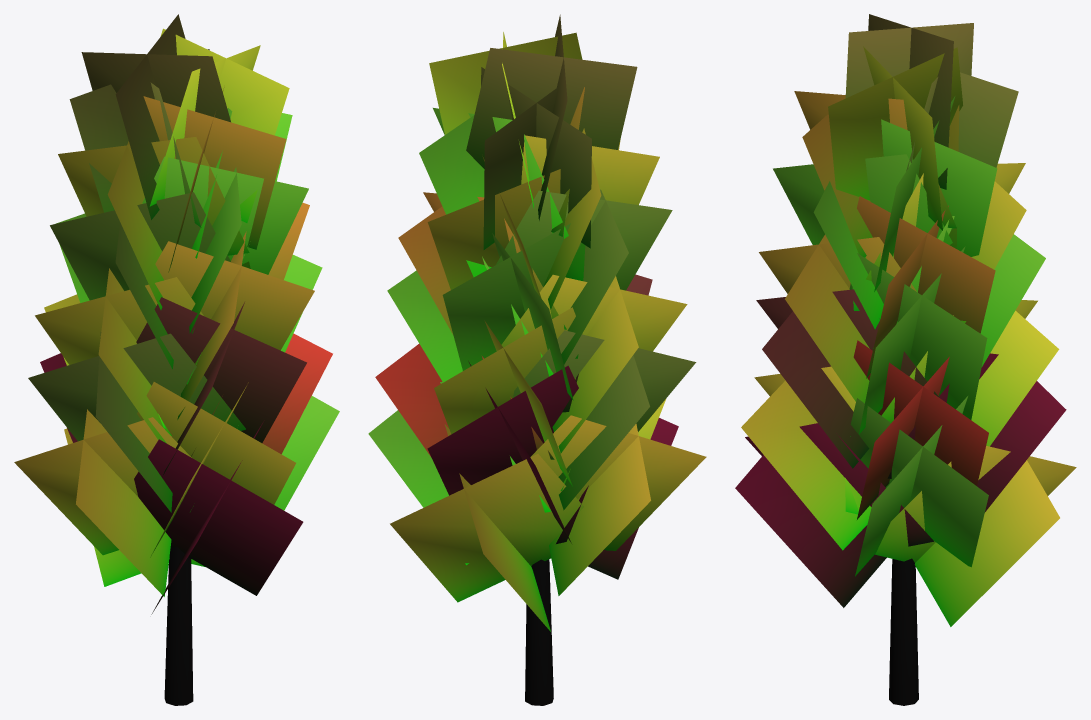
File: Tree_1.fbx
3 renders of one model, left to right at view 1: azimuth 30°, elevation 25°; view 2: azimuth 150°, elevation 25°; view 3: azimuth 270°, elevation 25°, orthographic.
Visible parts, largest first — view 1: Tree_1; view 2: Tree_1; view 3: Tree_1.
Boxes of the visible parts, x1,y1,x2,y2 form: Tree_1: [14, 14, 339, 705]; Tree_1: [368, 14, 706, 705]; Tree_1: [735, 14, 1076, 705].
Size of the model in its own units: 661 by 1474 by 681.
